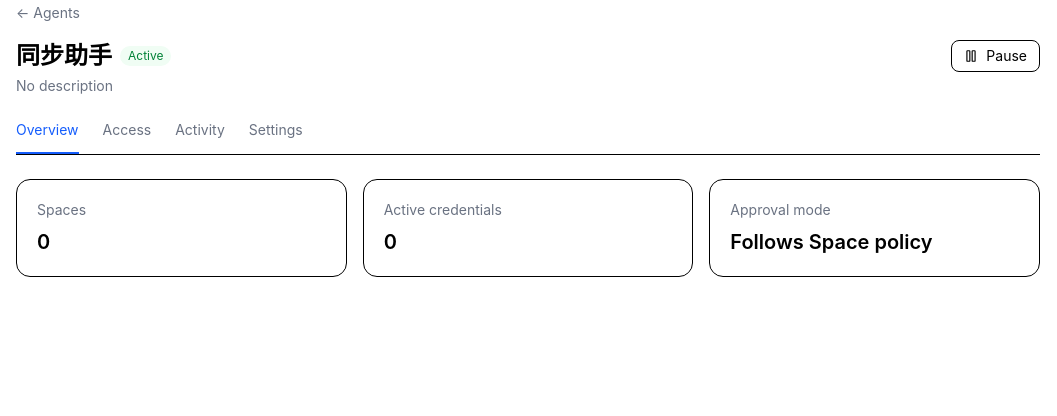
Test: AgentDetail › renders distinct collaboration results and import counts in en
The image size is (1057, 416).
Click the button "Activity": (200, 137) x1=175 y1=120 x2=225 y2=154
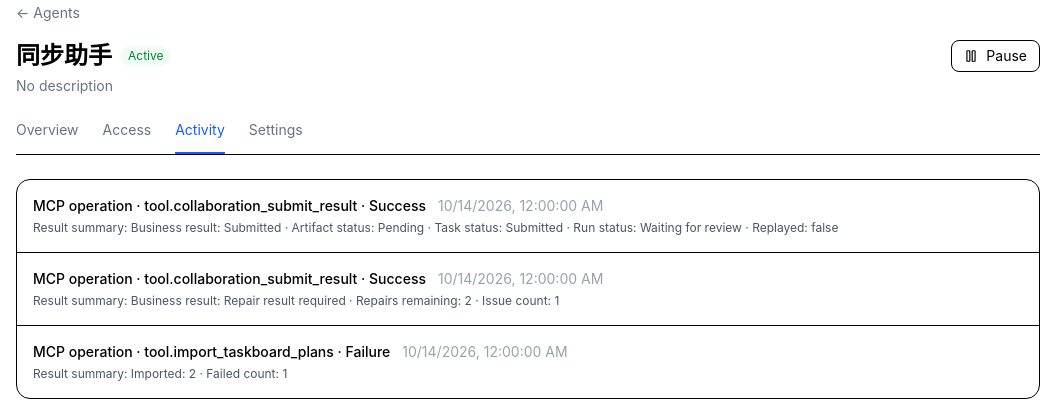
Expected: the text "Repair result required" is shown, x1=33 y1=293 x2=559 y2=308
Expected: the text "Result summary: Imported: 2 · Failed count: 1" is shown, x1=33 y1=366 x2=287 y2=381
